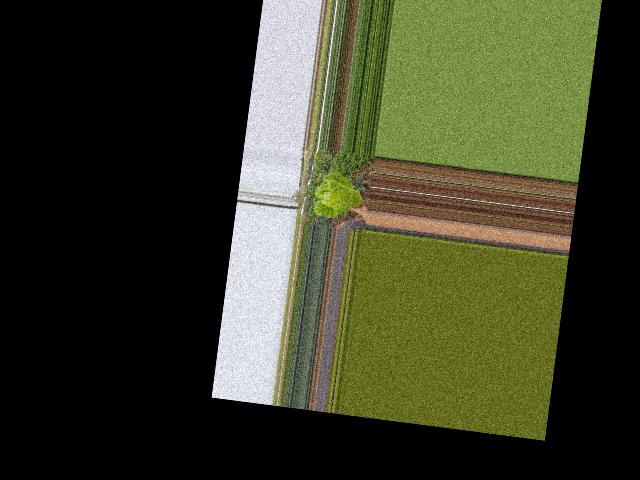lettuce: (311, 168, 369, 224)
